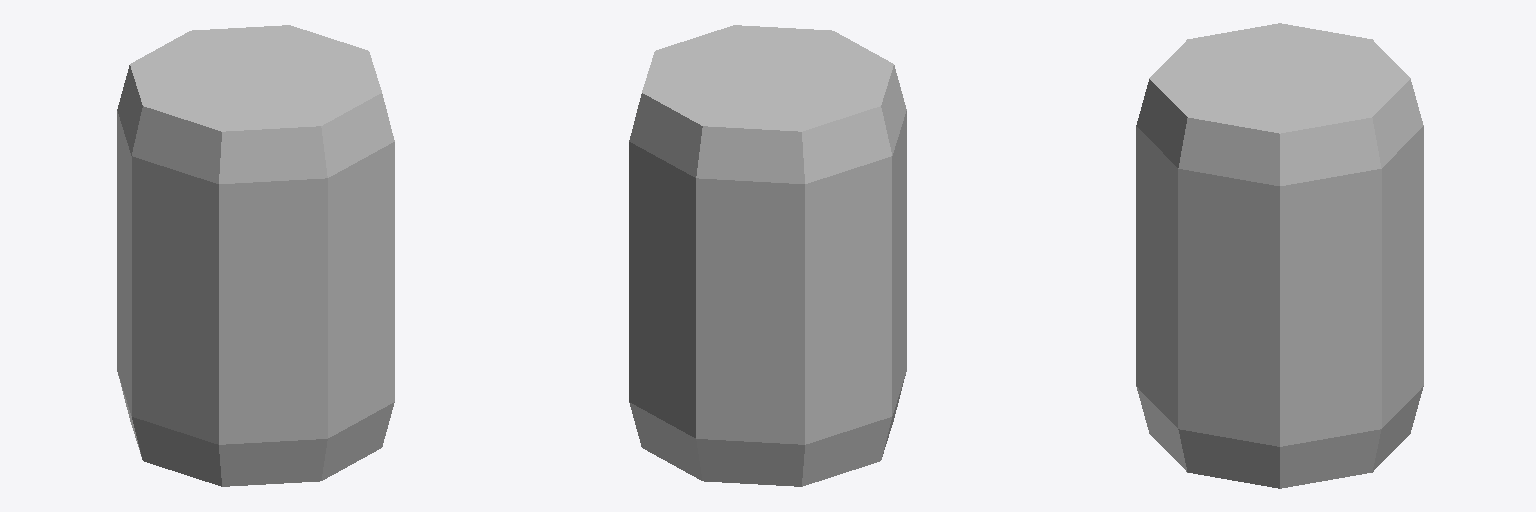
The model's file is BarrelWood01.obj.
The picture shows the model from 3 angles: view 1: azimuth 30°, elevation 25°; view 2: azimuth 150°, elevation 25°; view 3: azimuth 270°, elevation 25°; orthographic projection.
Parts seen in each view (by area): view 1: BarrelWood01; view 2: BarrelWood01; view 3: BarrelWood01.
Part boxes in pixels (bbox=[...]): BarrelWood01: bbox=[117, 25, 394, 486]; BarrelWood01: bbox=[629, 25, 906, 486]; BarrelWood01: bbox=[1136, 23, 1423, 488].
Size of the model in its own units: 0.77 by 1.05 by 0.77.